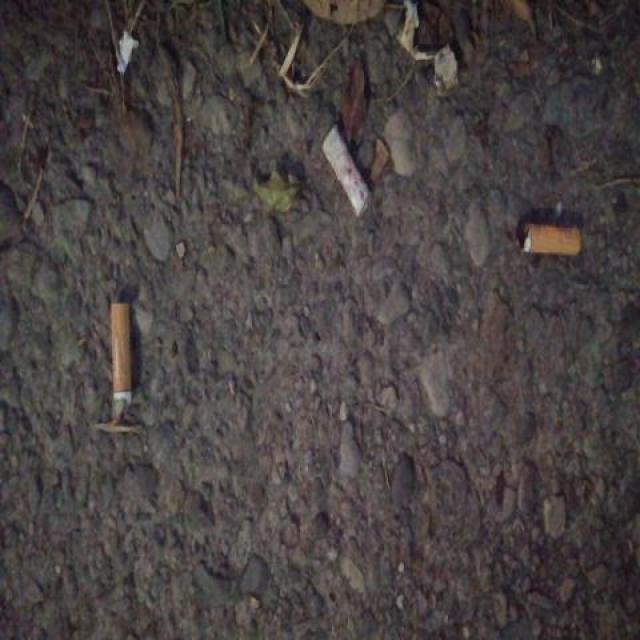non-organic waste: (317, 118, 379, 223), (105, 296, 138, 421), (508, 217, 584, 259)
